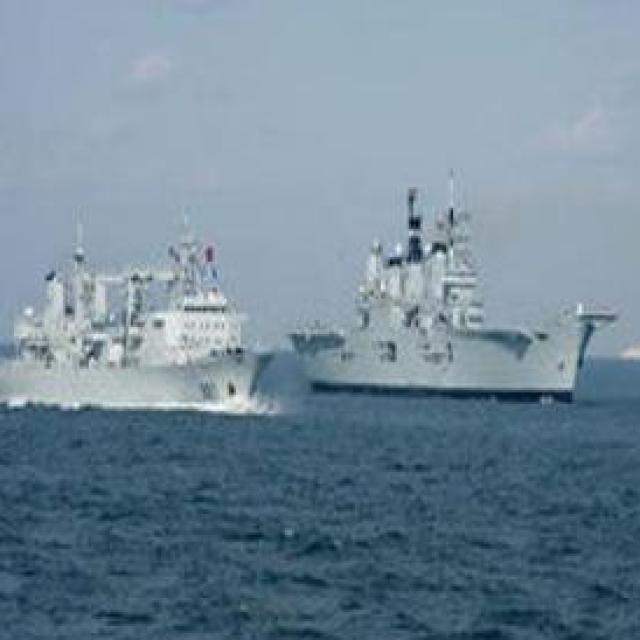navalvessels: (266, 178, 600, 410), (0, 222, 315, 418)
